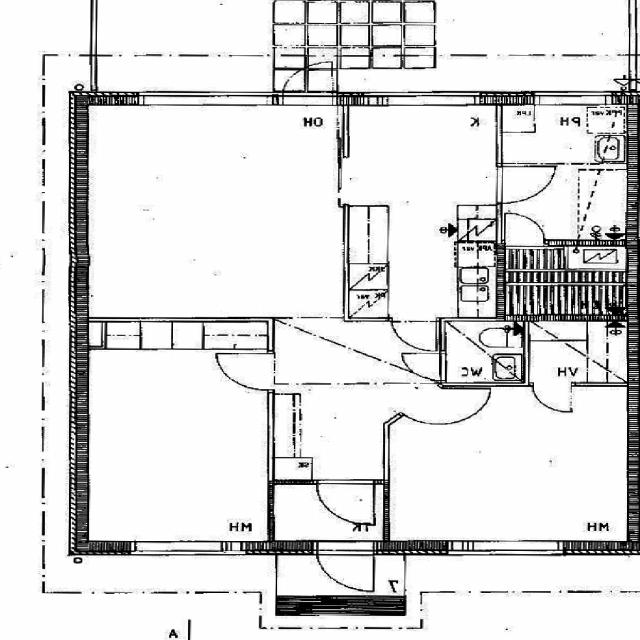door: (401, 385, 478, 439), (319, 540, 374, 593), (319, 479, 375, 523), (284, 56, 334, 105), (217, 353, 276, 389), (497, 166, 555, 202), (392, 316, 438, 352), (507, 212, 545, 246), (402, 352, 447, 380), (534, 382, 572, 412)
